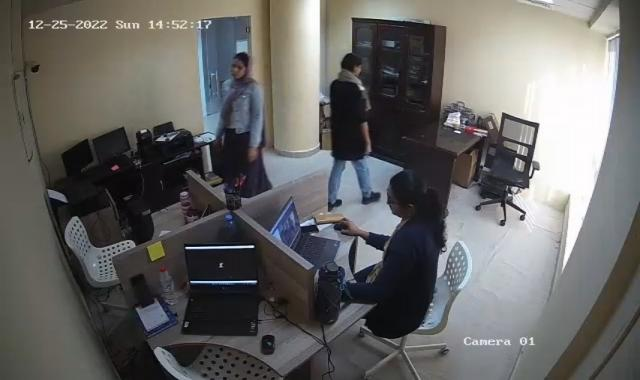no_hairnet: (384, 169, 426, 217), (340, 50, 363, 78), (229, 52, 253, 78)
